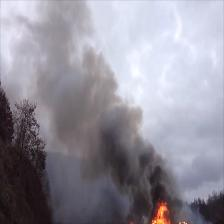fire: (153, 202, 170, 224)
smoke: (21, 16, 102, 99), (62, 104, 141, 162), (120, 167, 173, 195)
